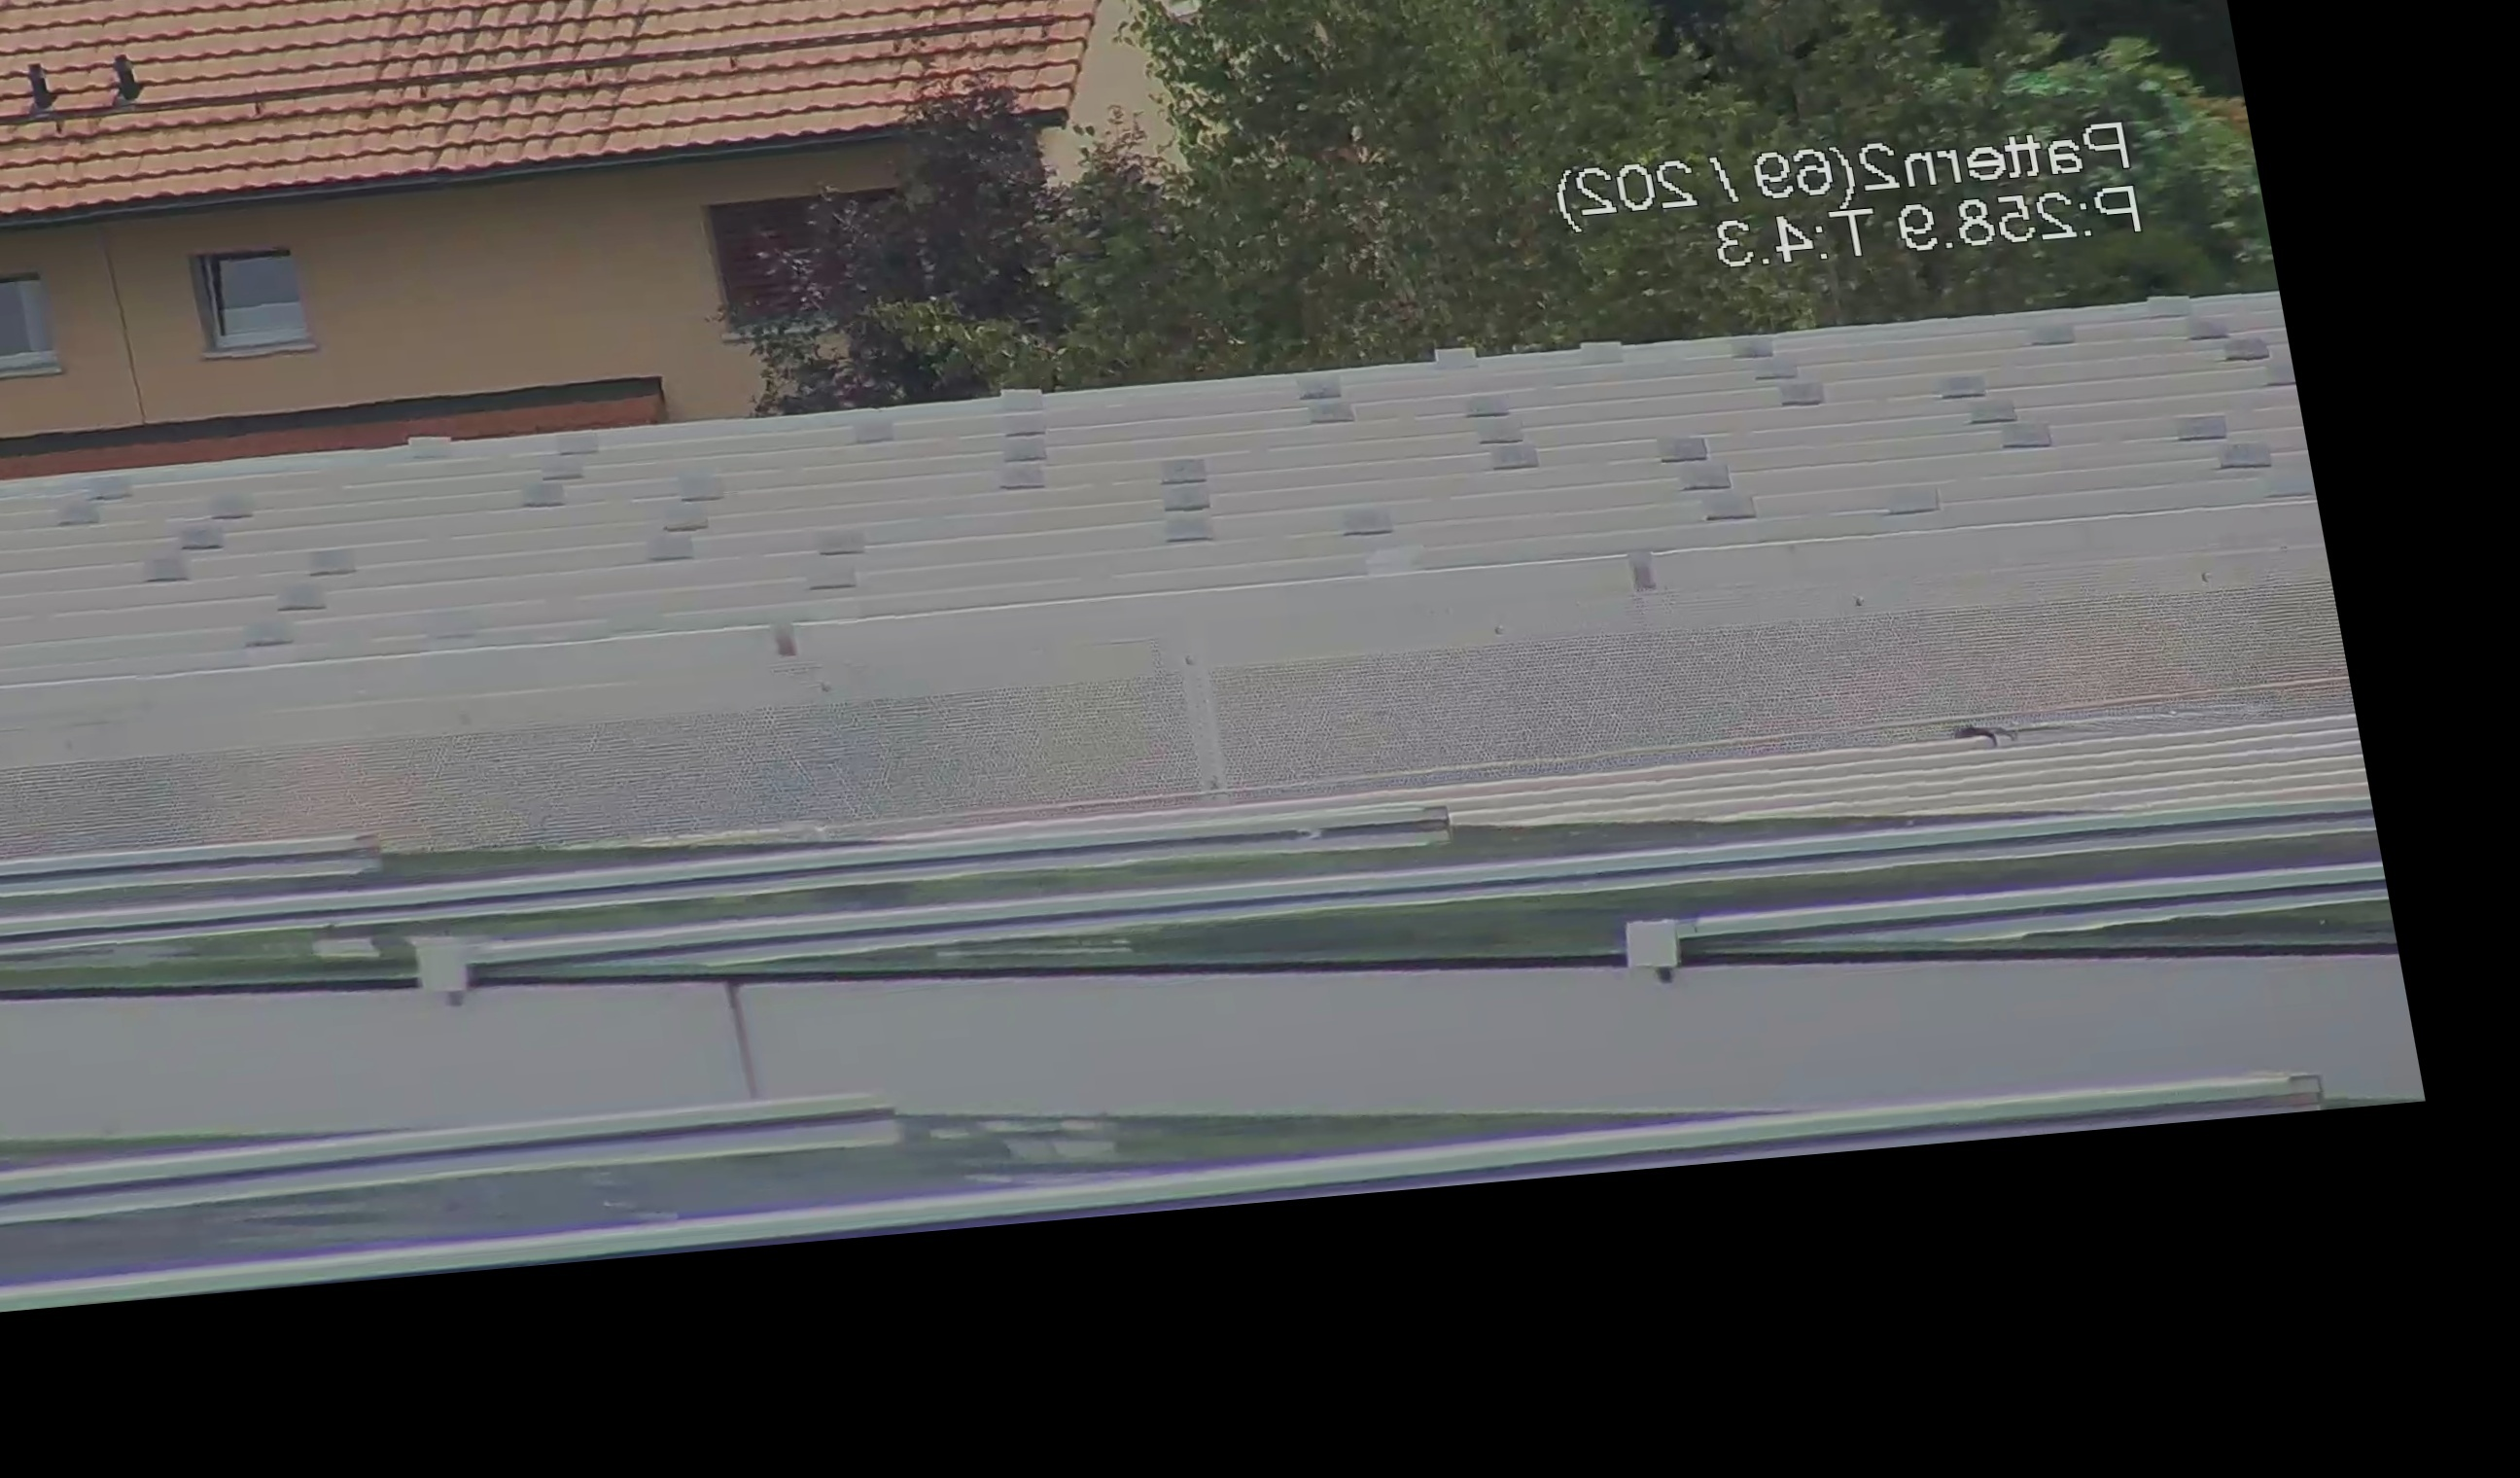Other: (0, 46, 69, 114)
